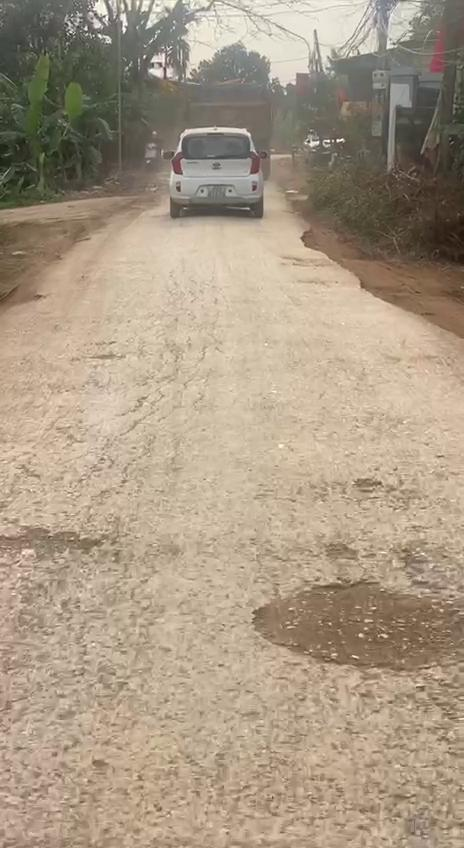pothole: (250, 568, 464, 674), (0, 520, 146, 660)
